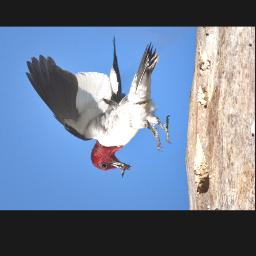Woodpecker: (25, 37, 171, 175)
